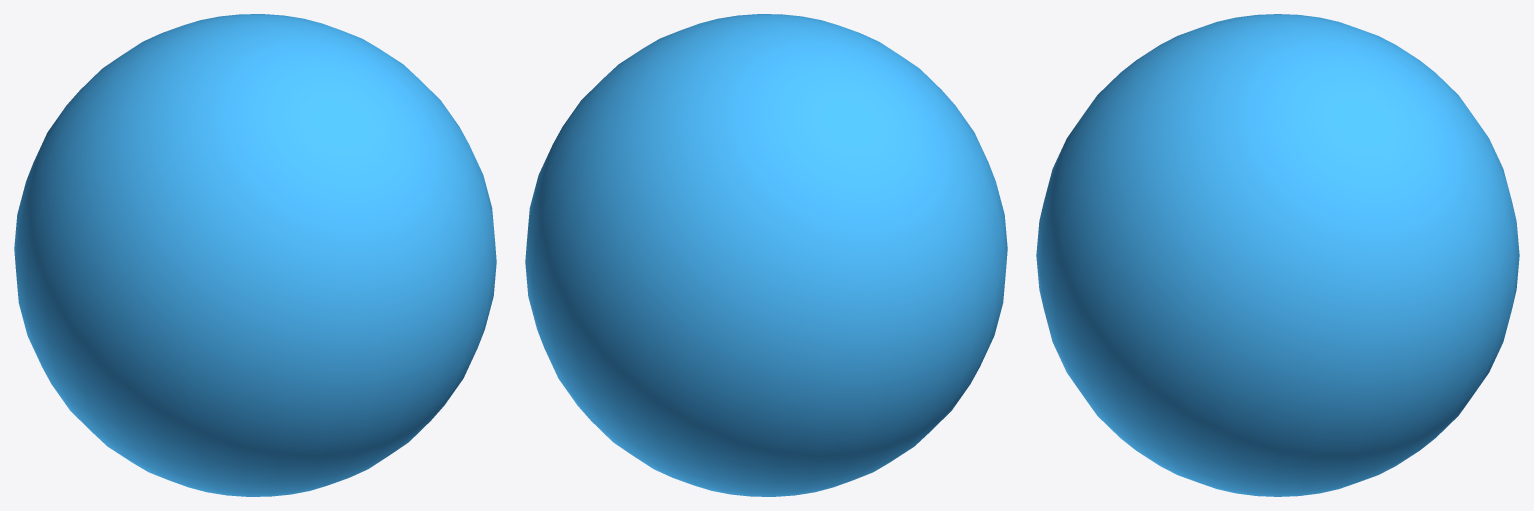
The model's file is earth.glb.
3 views of the same model, side by side, from view 1: azimuth 30°, elevation 25°; view 2: azimuth 150°, elevation 25°; view 3: azimuth 270°, elevation 25° (orthographic).
Visible parts, largest first — view 1: earth; view 2: earth; view 3: earth.
Boxes of the visible parts, bbox=[...] form: earth: bbox=[14, 14, 496, 496]; earth: bbox=[525, 14, 1007, 496]; earth: bbox=[1036, 14, 1519, 496].
Size of the model in its own units: 2 by 2 by 2.
